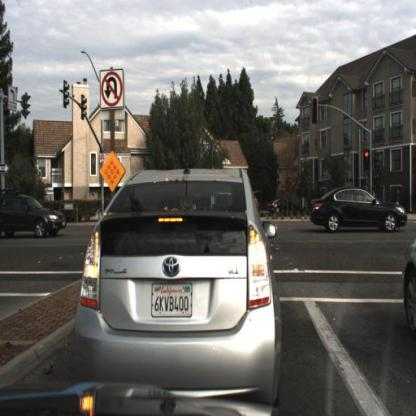car: (64, 158, 283, 409), (312, 188, 407, 234), (1, 190, 67, 239), (400, 227, 416, 342)
pedestrian: (393, 179, 406, 213)
trafficLight-Red: (361, 145, 373, 176), (312, 94, 321, 126)
